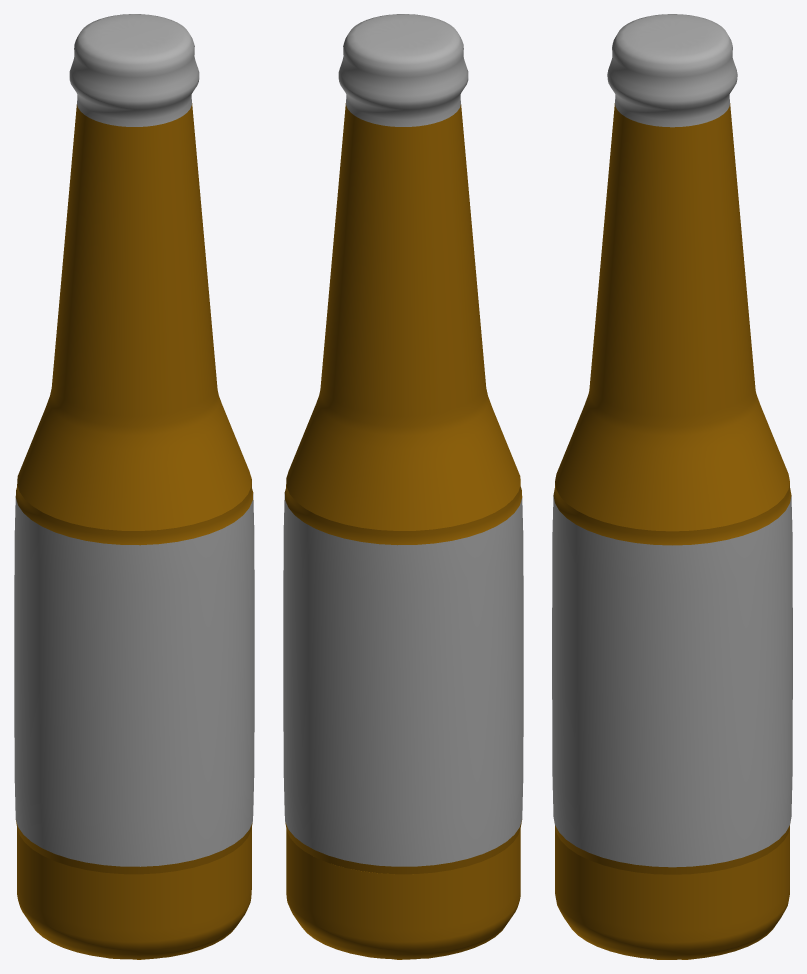
The model's file is Beer.fbx.
The picture shows the model from 3 angles, left to right: view 1: azimuth 30°, elevation 25°; view 2: azimuth 150°, elevation 25°; view 3: azimuth 270°, elevation 25°; orthographic projection.
Visible parts, largest first — view 1: Beer; view 2: Beer; view 3: Beer.
Part boxes in pixels (x1=…): Beer: x1=14, y1=14, x2=254, y2=959; Beer: x1=283, y1=14, x2=523, y2=959; Beer: x1=552, y1=14, x2=792, y2=959.
Bounding box in the file's own units: 4.1 × 16.67 × 4.1.
